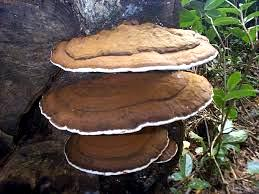Ganoderma - Fruit Body: (37, 73, 215, 136), (49, 22, 221, 73), (62, 137, 177, 177)
